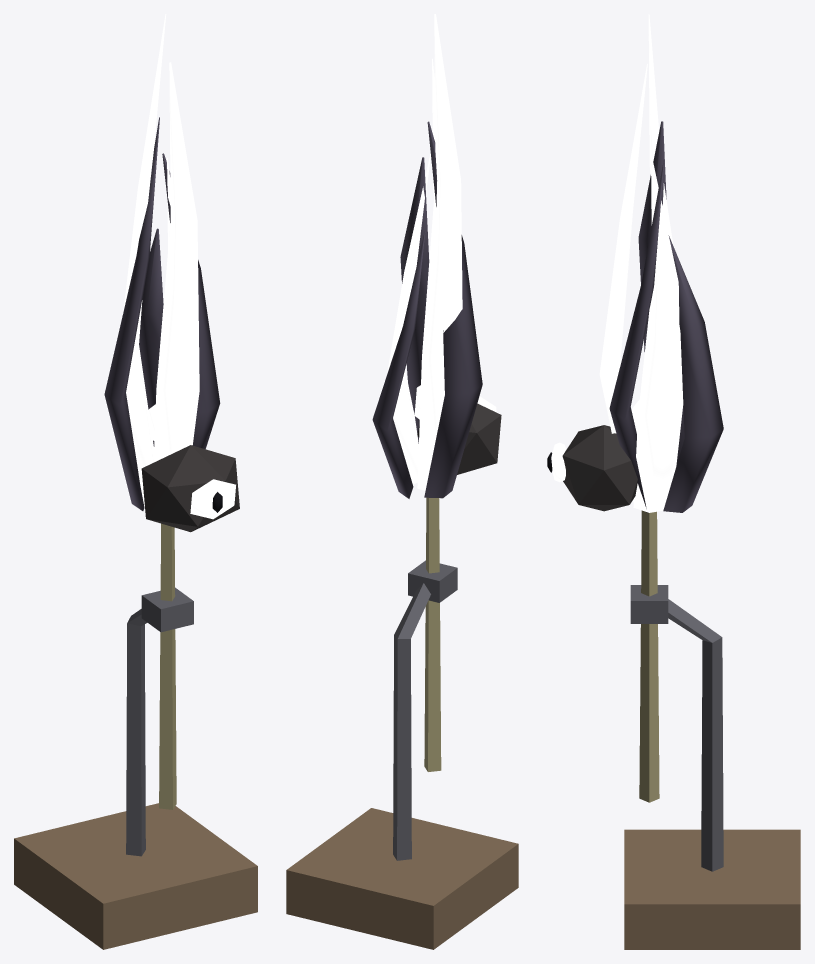
The model's file is ember-rushlight.glb.
3 renders of one model, left to right at view 1: azimuth 30°, elevation 25°; view 2: azimuth 150°, elevation 25°; view 3: azimuth 270°, elevation 25°, orthographic. The views are drawn at different scales.
Parts seen in each view (by area): view 1: ember_rushlight; view 2: ember_rushlight; view 3: ember_rushlight.
Boxes of the visible parts, x1=… form: ember_rushlight: x1=14, y1=14, x2=257, y2=949; ember_rushlight: x1=286, y1=14, x2=518, y2=949; ember_rushlight: x1=547, y1=14, x2=800, y2=949.
Size of the model in its own units: 0.14 by 0.7861 by 0.201.
